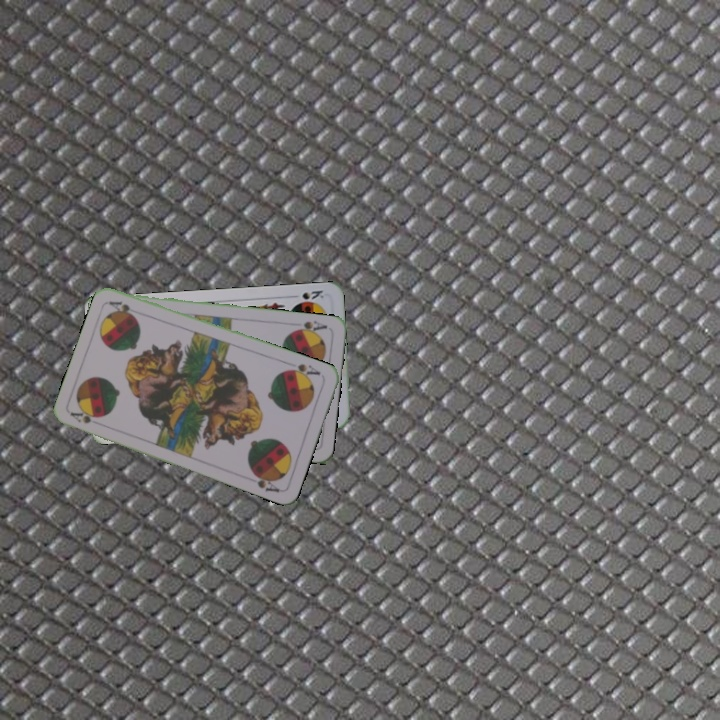SA: (66, 406, 106, 429), (283, 360, 323, 381), (290, 317, 330, 337)
SK: (298, 286, 326, 302)
